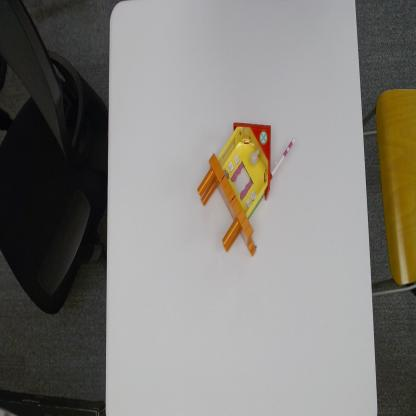House: (198, 118, 294, 257)
